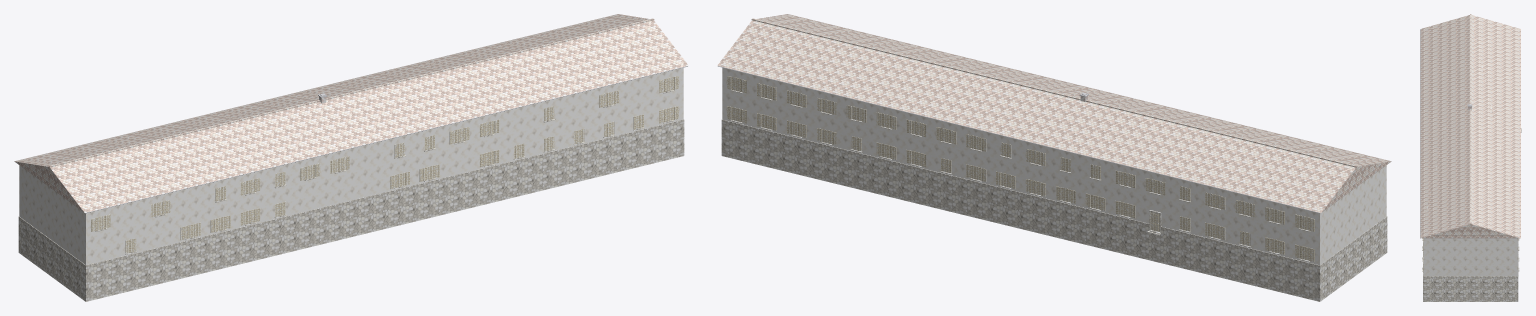
The picture shows the model from 3 angles, left to right: view 1: azimuth 30°, elevation 25°; view 2: azimuth 150°, elevation 25°; view 3: azimuth 270°, elevation 25°; orthographic projection. The views are drawn at different scales.
Visible parts, largest first — view 1: b1084716798; view 2: b1084716798; view 3: b1084716798.
Boxes of the visible parts, x1=… form: b1084716798: x1=14, y1=14, x2=688, y2=301; b1084716798: x1=717, y1=14, x2=1391, y2=301; b1084716798: x1=1420, y1=14, x2=1521, y2=301.
Size of the model in its own units: 65.04 by 12.06 by 13.28.
Materials: 19 (19 with a texture image).
